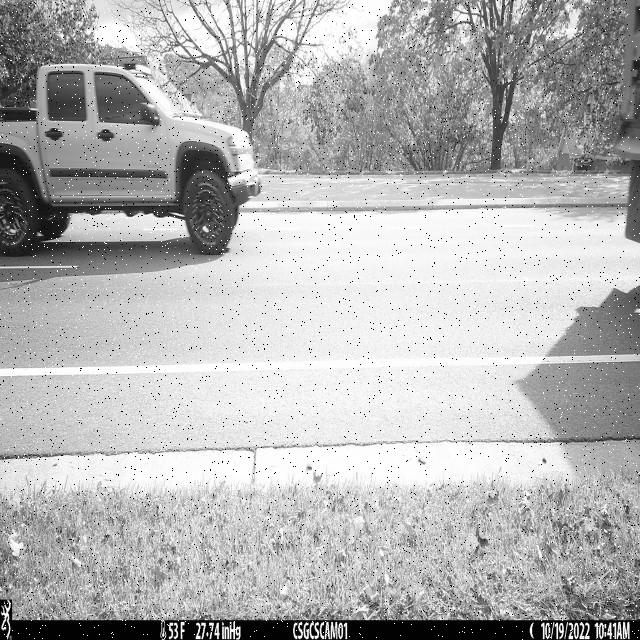Pickup: (0, 64, 263, 257)
